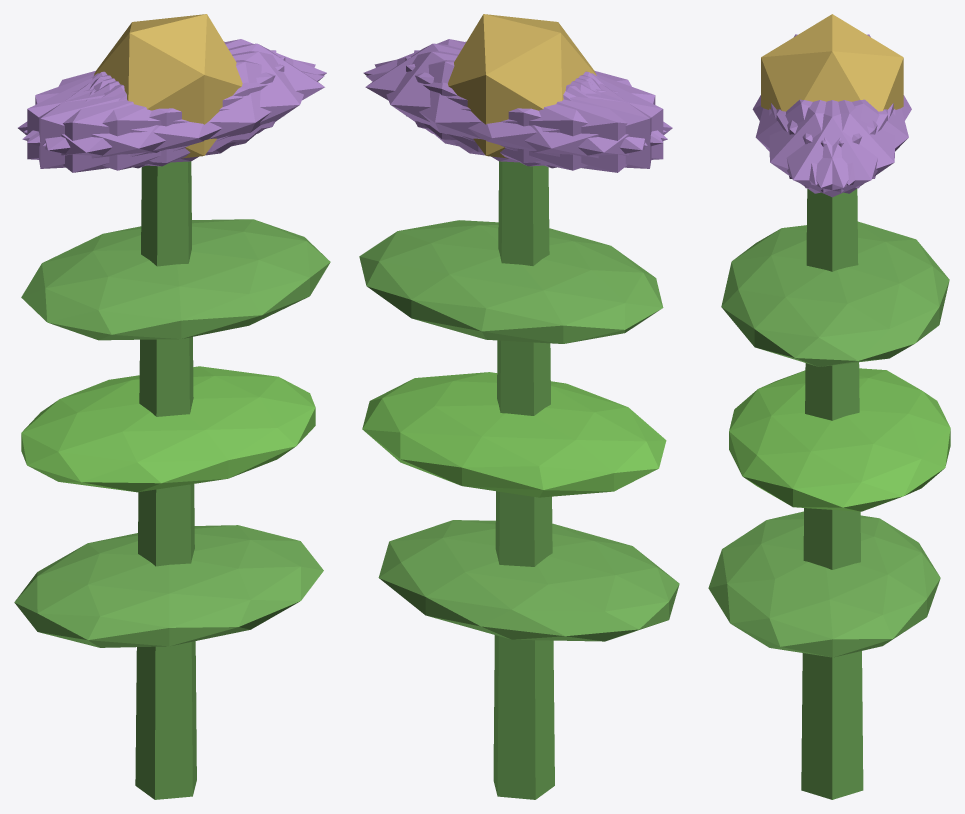
File: desmanthus-virgatus.glb
3 renders of one model, left to right at view 1: azimuth 30°, elevation 25°; view 2: azimuth 150°, elevation 25°; view 3: azimuth 270°, elevation 25°, orthographic.
Parts seen in each view (by area): view 1: leaf0, leaf2, leaf1, stem, center, petal1, petal6, petal2, petal5, petal7, petal0, petal4 (+2 smaller); view 2: leaf1, leaf2, leaf0, stem, center, petal8, petal3, petal7, petal4, petal2, petal0, petal5 (+2 smaller); view 3: leaf2, leaf1, leaf0, stem, center, petal0, petal5, petal4, petal1, petal8.
Boxes of the visible parts, bbox=[...] form: leaf0: bbox=[14, 525, 323, 647]; leaf2: bbox=[21, 219, 330, 340]; leaf1: bbox=[21, 366, 315, 492]; stem: bbox=[135, 161, 196, 799]; center: bbox=[94, 14, 242, 158]; petal1: bbox=[22, 60, 324, 170]; petal6: bbox=[18, 73, 236, 172]; petal2: bbox=[39, 50, 276, 168]; petal5: bbox=[43, 51, 315, 162]; petal7: bbox=[27, 56, 285, 166]; petal0: bbox=[93, 43, 324, 152]; petal4: bbox=[24, 39, 326, 143]; leaf1: bbox=[362, 372, 666, 497]; leaf2: bbox=[359, 220, 663, 343]; leaf0: bbox=[378, 520, 679, 641]; stem: bbox=[493, 161, 554, 799]; center: bbox=[448, 14, 596, 158]; petal8: bbox=[366, 60, 667, 170]; petal3: bbox=[454, 73, 672, 172]; petal7: bbox=[414, 50, 651, 168]; petal4: bbox=[374, 51, 647, 162]; petal2: bbox=[405, 56, 663, 166]; petal0: bbox=[365, 43, 596, 152]; petal5: bbox=[363, 39, 666, 143]; leaf2: bbox=[721, 221, 949, 366]; leaf1: bbox=[729, 368, 950, 511]; leaf0: bbox=[708, 511, 940, 657]; stem: bbox=[801, 188, 863, 799]; center: bbox=[761, 14, 903, 111]; petal0: bbox=[771, 100, 893, 197]; petal5: bbox=[769, 100, 887, 193]; petal4: bbox=[776, 100, 895, 193]; petal1: bbox=[755, 99, 877, 185]; petal8: bbox=[787, 99, 908, 185].
Size of the model in its own units: 0.1452 by 0.3568 by 0.1039.
